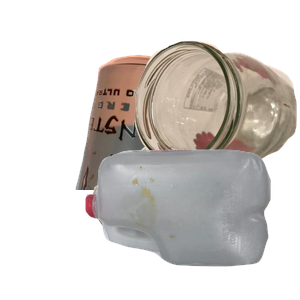glass: (132, 38, 300, 199)
metal: (73, 52, 263, 232)
plastic: (83, 147, 300, 300)
trash: (90, 129, 295, 300)
